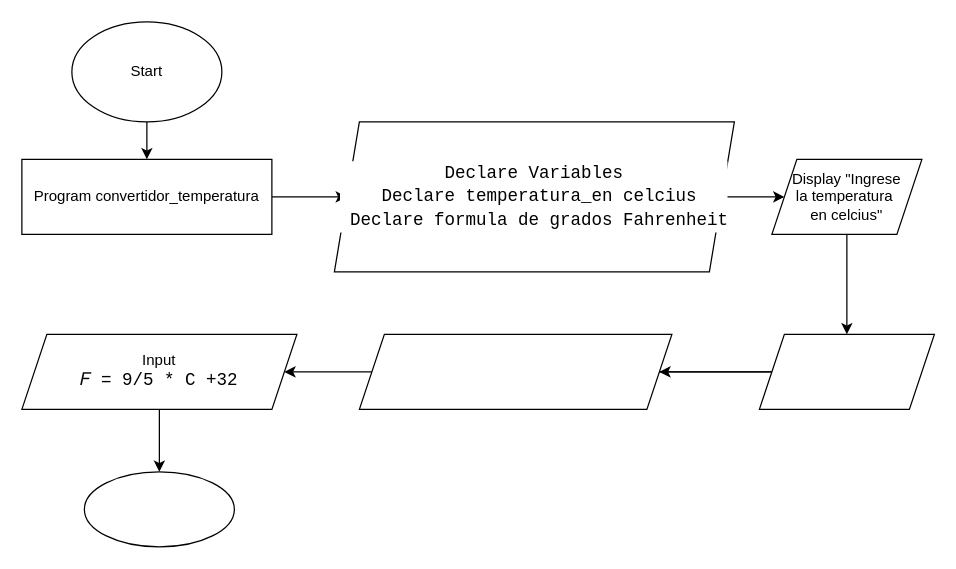
The diagram is 956 pixels wide and 569 high, and some of its shapes have lost their labels. The shapes that lost their labels are listed below. From the top down, each one's centre as x and y in pixels, then its label:
[515,371]: Display "Ingrese la formula para convertir a fahrenheit
[846,371]: Input_ temperatura en celcius
[158,509]: End
